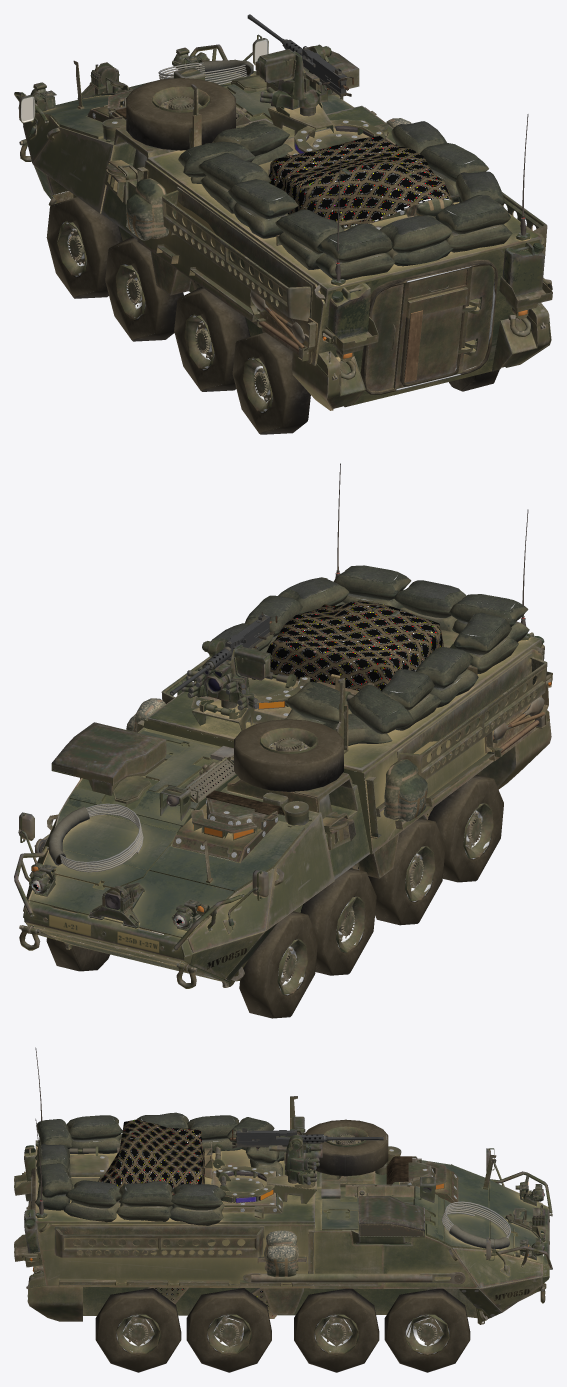
Rendered from stryker.glb.
The picture shows the model from 3 angles, top to bottom: view 1: azimuth 30°, elevation 25°; view 2: azimuth 150°, elevation 25°; view 3: azimuth 270°, elevation 25°; orthographic projection. The views are drawn at different scales.
Visible parts, largest first — view 1: V_stryker; view 2: V_stryker; view 3: V_stryker.
Boxes of the visible parts, x1,y1,x2,y2 form: V_stryker: (14, 14, 552, 434); V_stryker: (14, 463, 552, 1018); V_stryker: (14, 1047, 552, 1372).
Bounding box in the file's own units: 9.49 × 9.92 × 19.46.
Materials: 2 (2 with a texture image).
